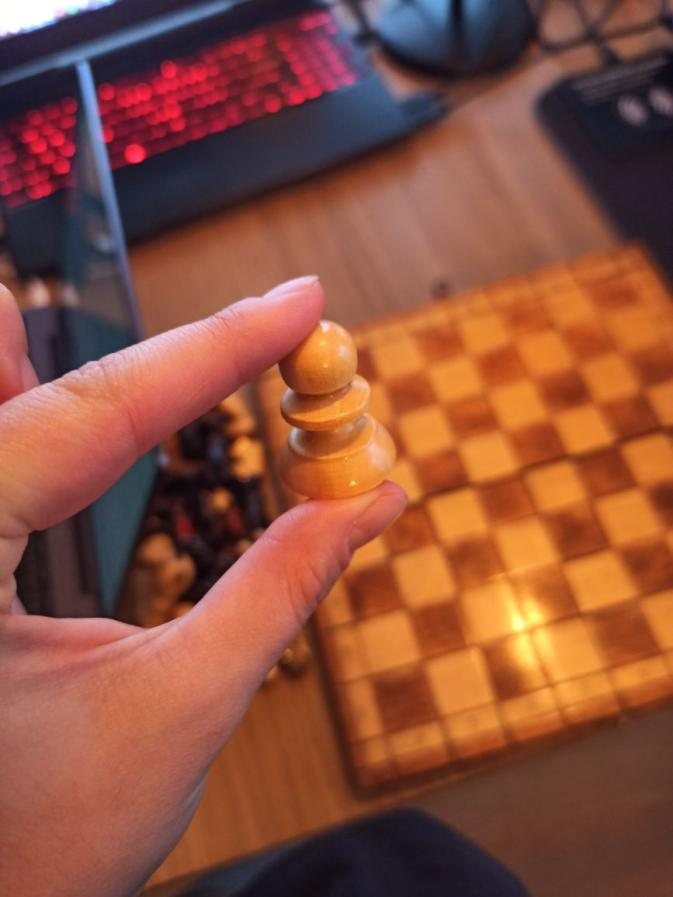wpawn: (280, 321, 400, 502)
